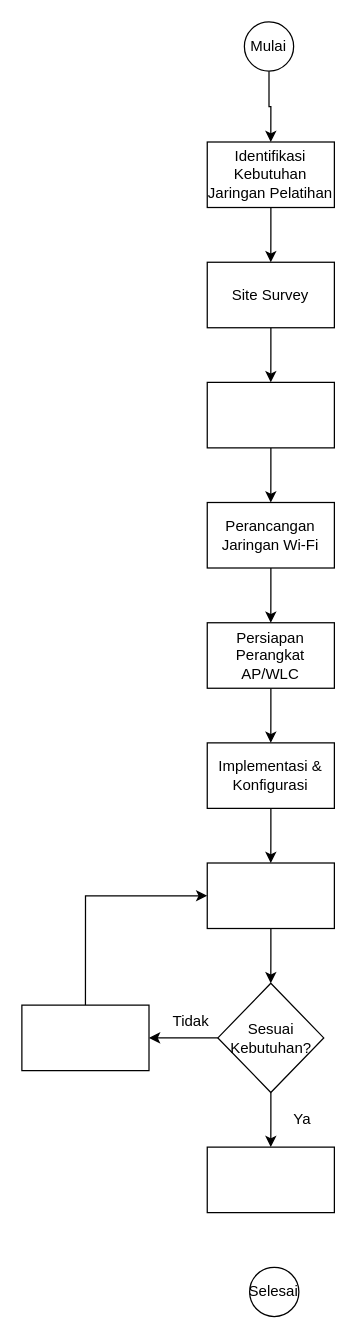
The diagram is 356 pixels wide and 1344 high, and some of its shapes have lost their labels. The shapes that lost their labels are listed below. From the top down, each one's centre as x and y in pixels, then its label:
At [270,414]: "Analisis Hasil Survey".
At [270,895]: "Pengujian".
At [85,1037]: "TroubleShooting".
At [270,1179]: "Evaluasi".
